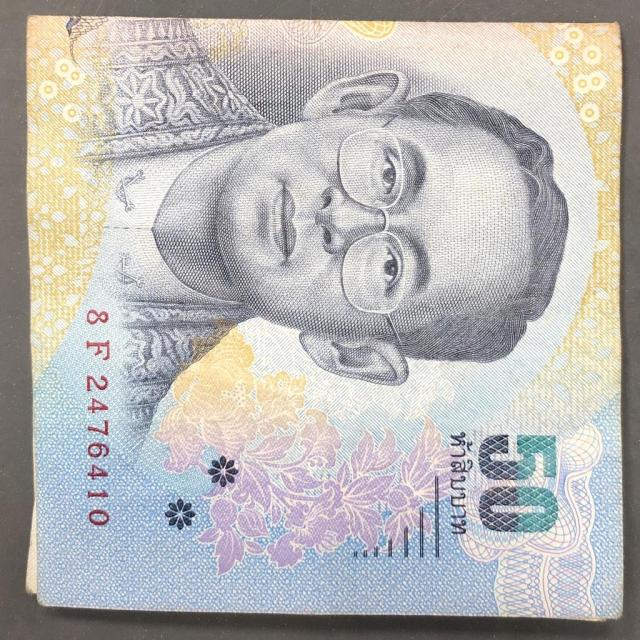THAI50: (26, 16, 623, 621)
